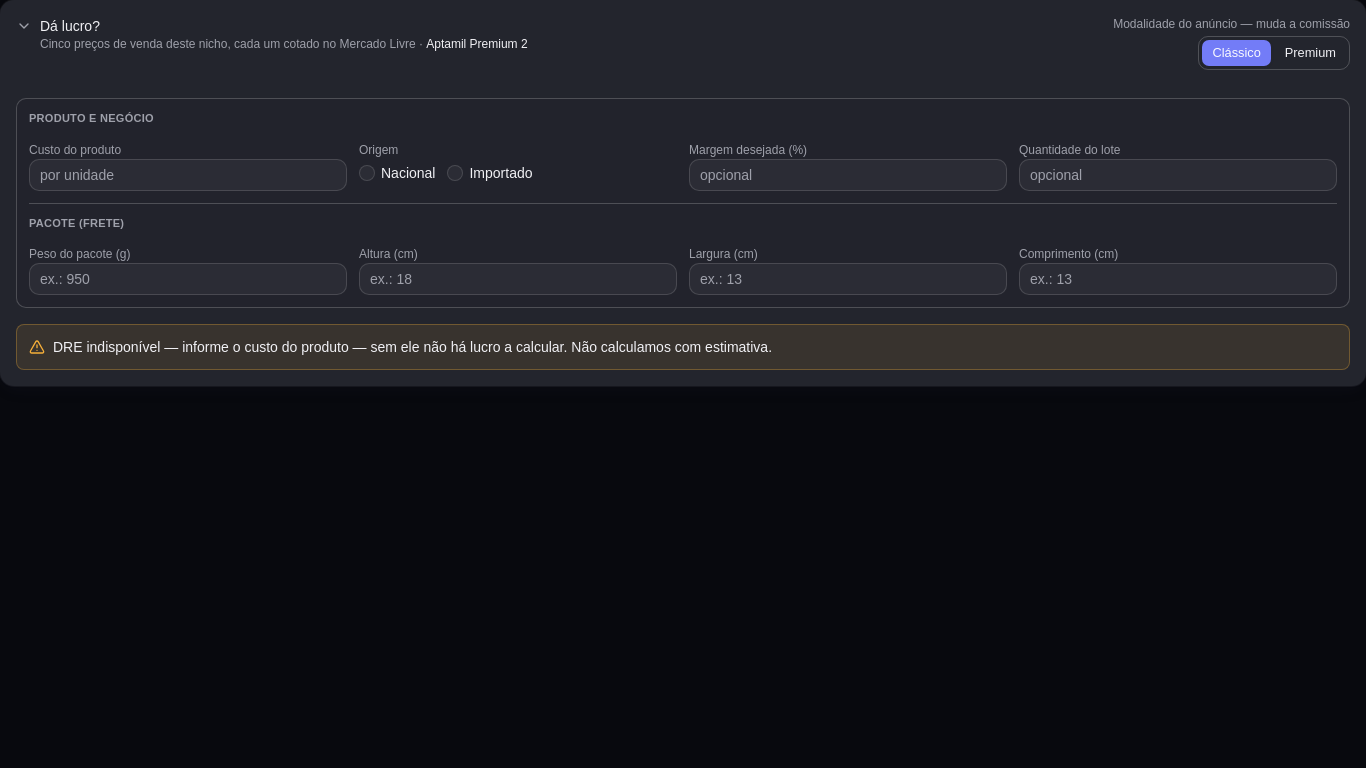
Test: SonarDre — cenários (ADR-0149) › com quantidade mostra o que sai do caixa e o que volta
Type "42" into the field labelled "Custo do produto" at {"x": 188, "y": 175}, box [29, 159, 347, 191]
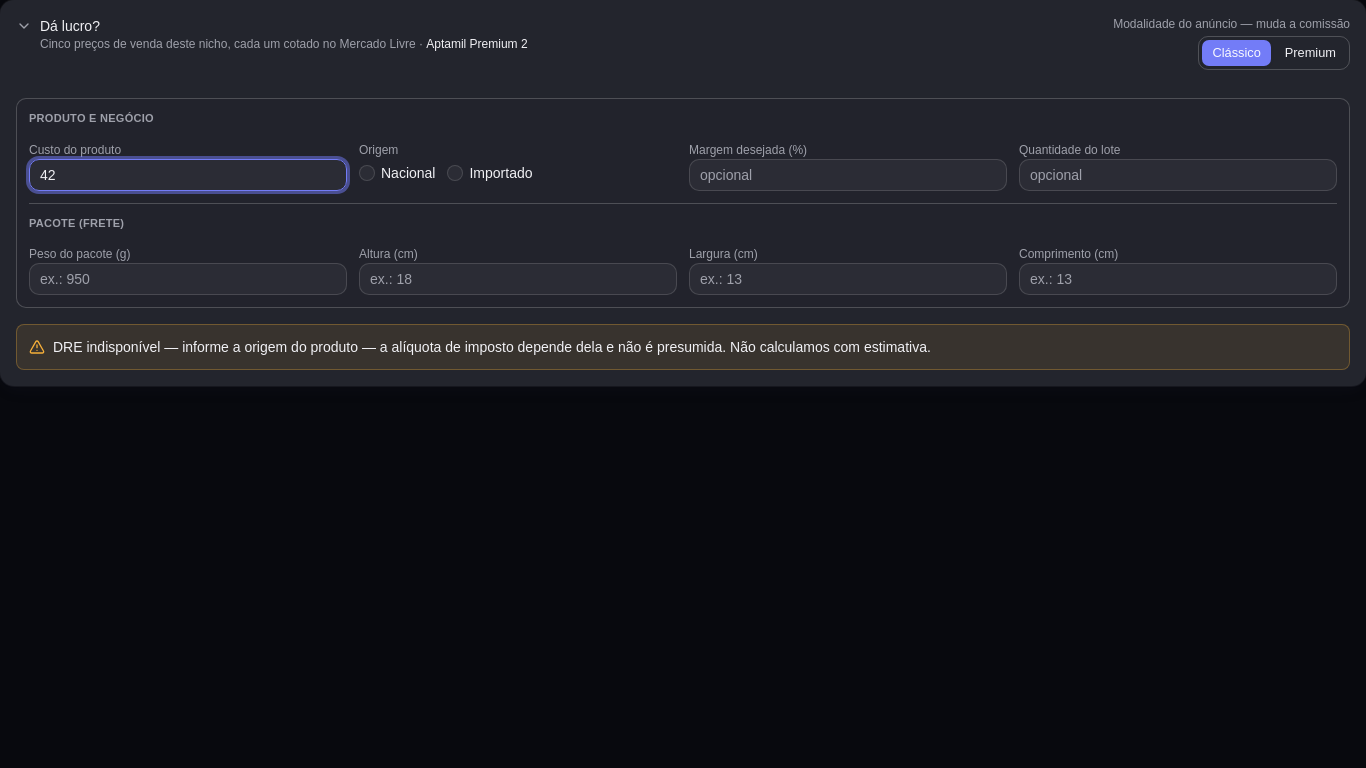
Click the radio button named "nacional" next to "Nacional" at {"x": 367, "y": 173}, box [359, 165, 375, 181]
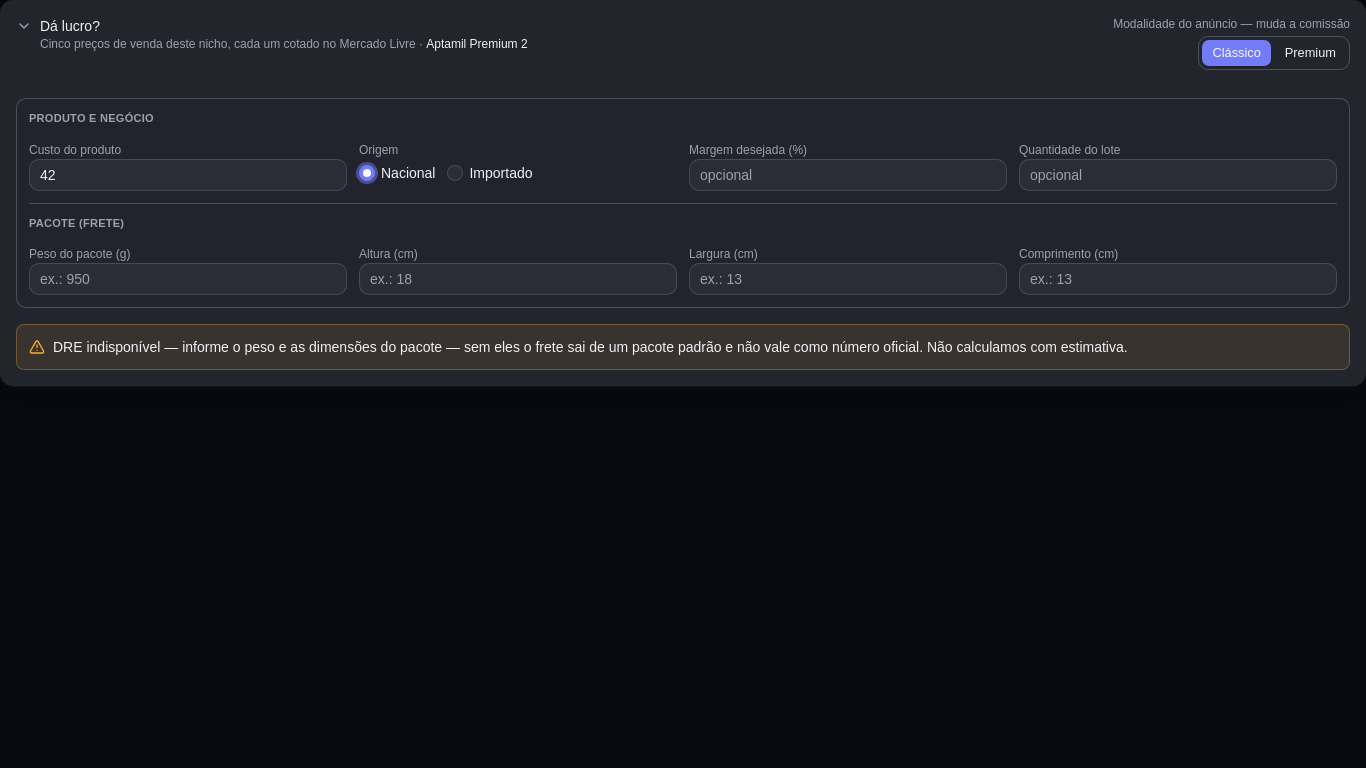
Type "950" into the field labelled "Peso do pacote (g)" at {"x": 188, "y": 279}, box [29, 263, 347, 295]
Type "18" into the field labelled "Altura (cm)" at {"x": 518, "y": 279}, box [359, 263, 677, 295]
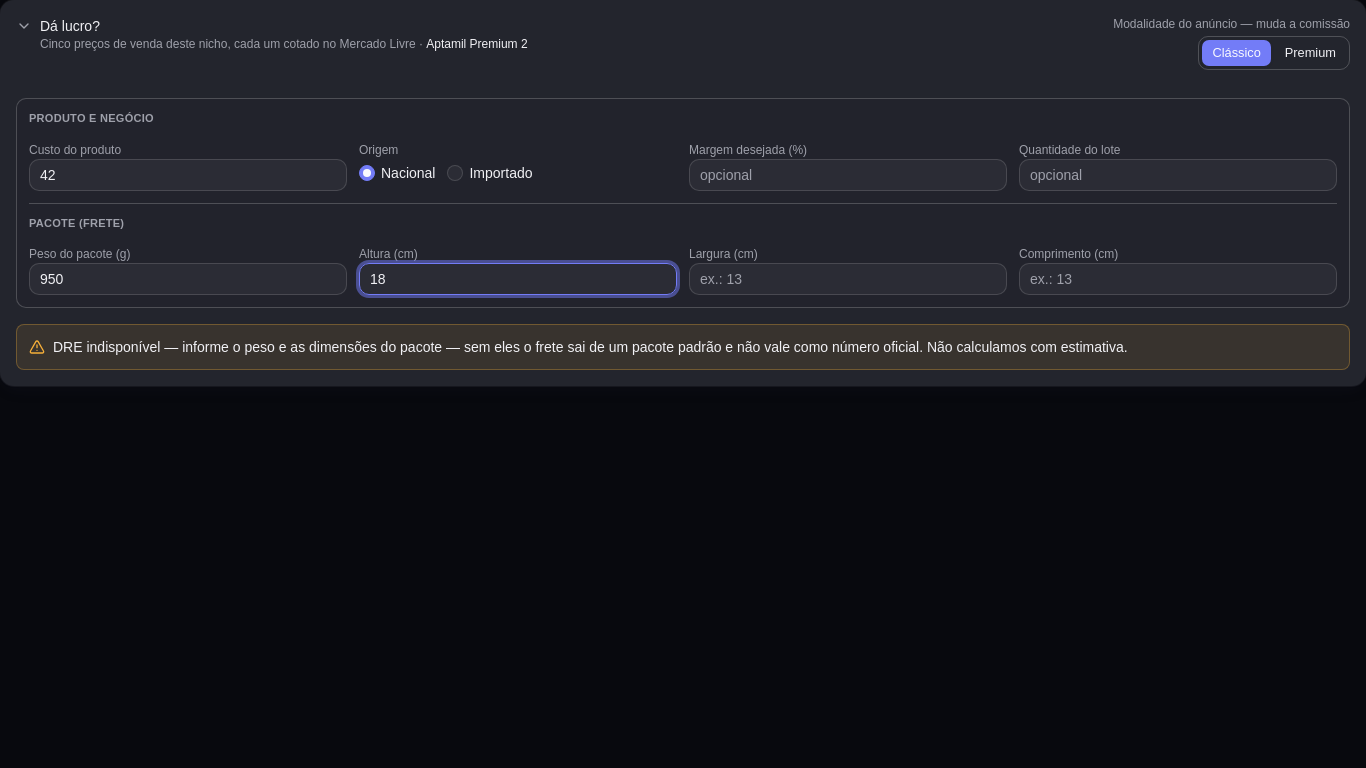
Type "13" into the field labelled "Largura (cm)" at {"x": 848, "y": 279}, box [689, 263, 1007, 295]
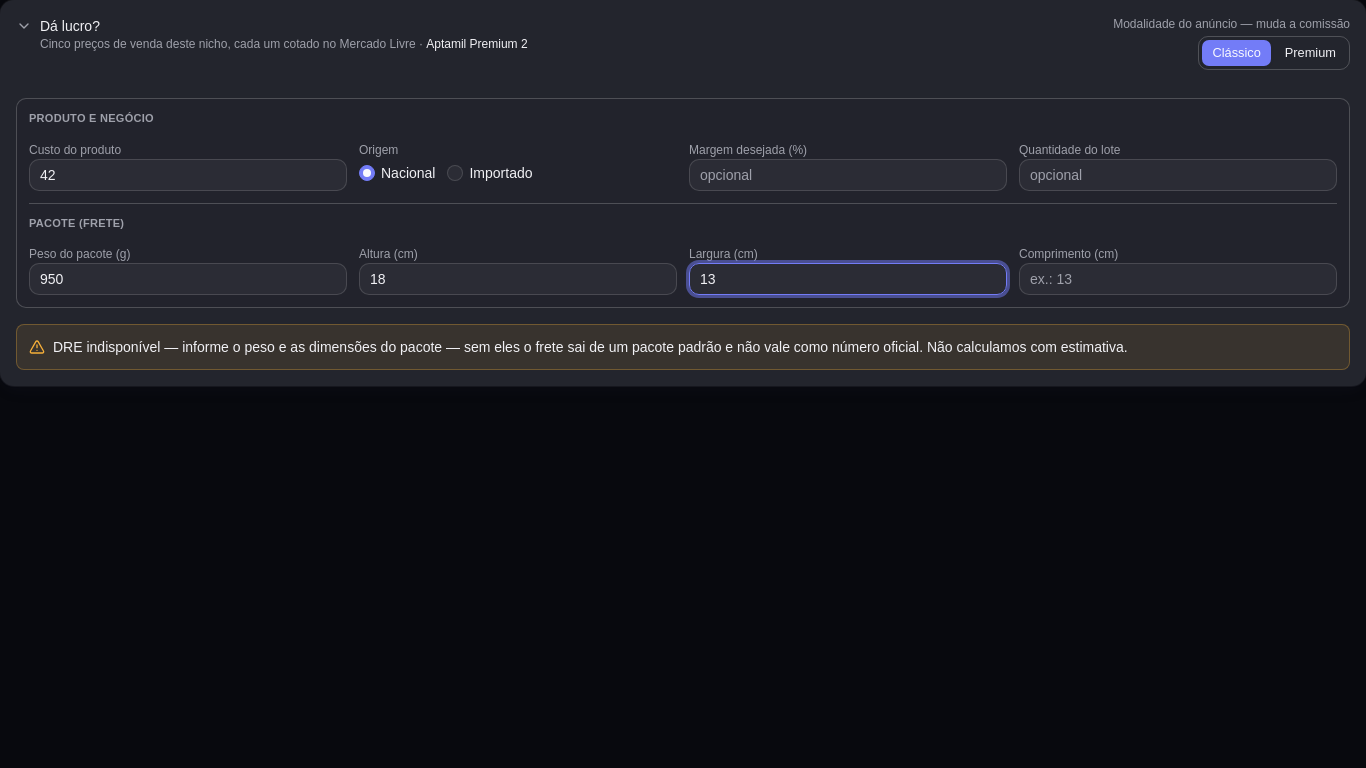
Type "13" into the field labelled "Comprimento (cm)" at {"x": 1178, "y": 279}, box [1019, 263, 1337, 295]
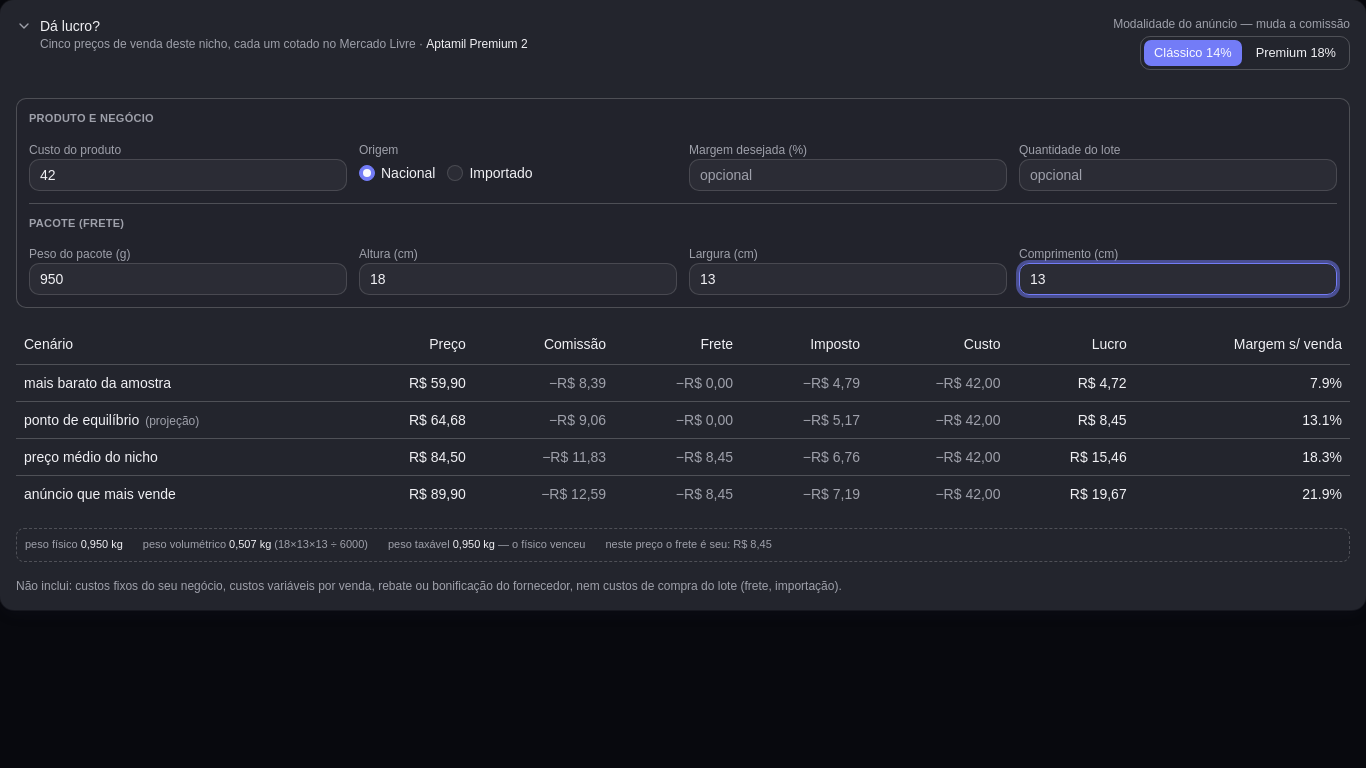
Result: the text "anúncio que mais vende" is shown at [16, 475, 348, 512]
Type "100" into the field labelled "Quantidade do lote" at {"x": 1178, "y": 175}, box [1019, 159, 1337, 191]
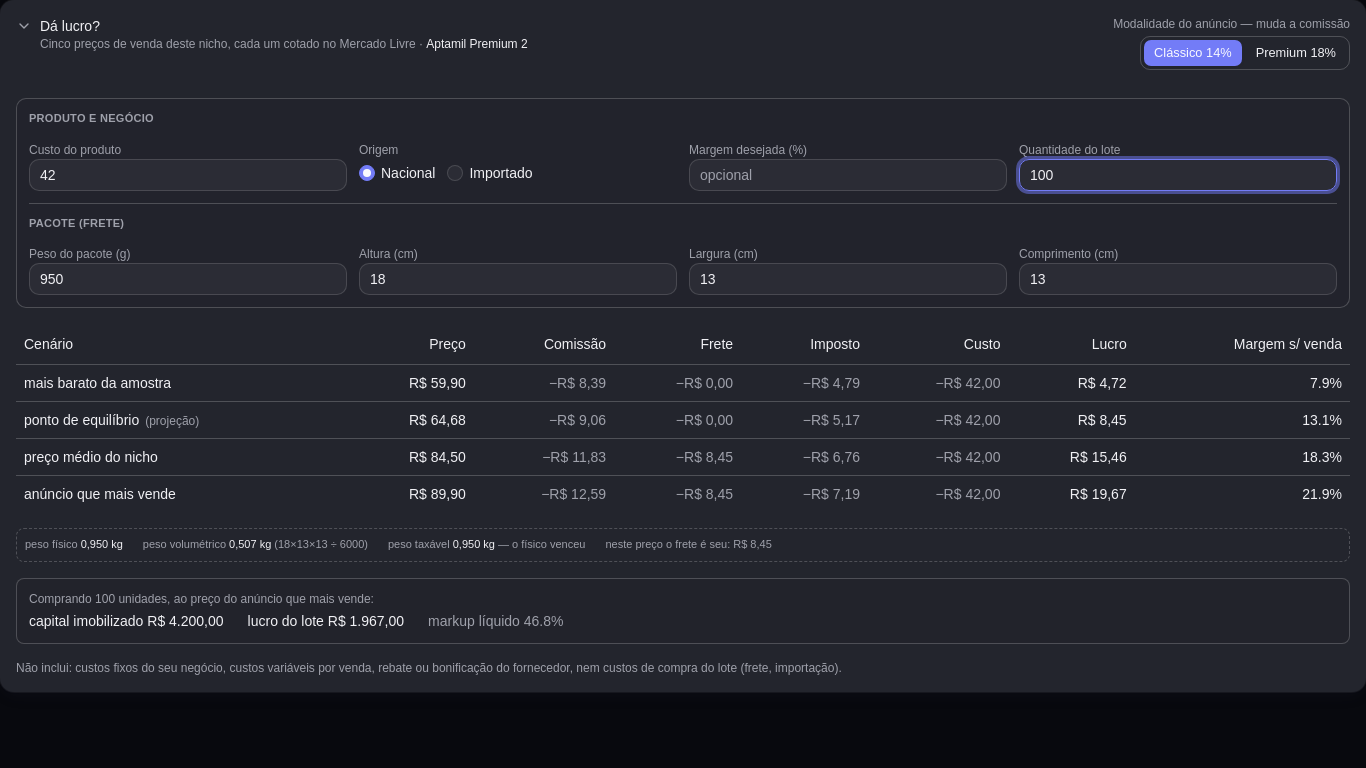
Result: the text "capital imobilizado R$ 4.200,00" is shown at [29, 611, 224, 631]
Result: the text "R$ 4.200,00" is shown at [147, 613, 224, 629]
